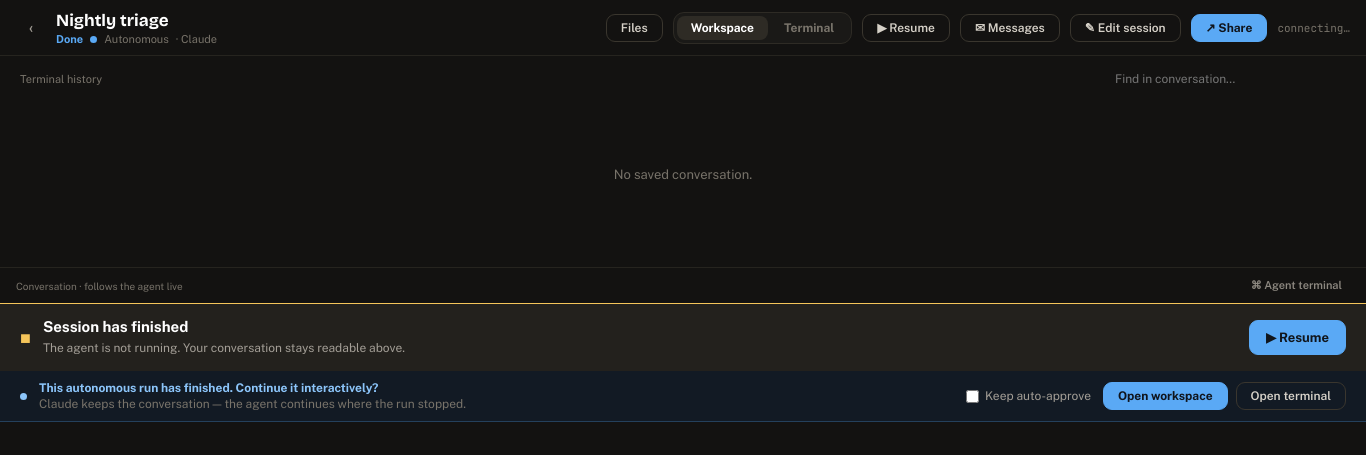
it: continuing an autonomous session interactively › shows a refusal inline instead of a popup and stays on the card
Click the button "Open terminal": click(1291, 396) top-left (1236, 382), bottom-right (1346, 410)
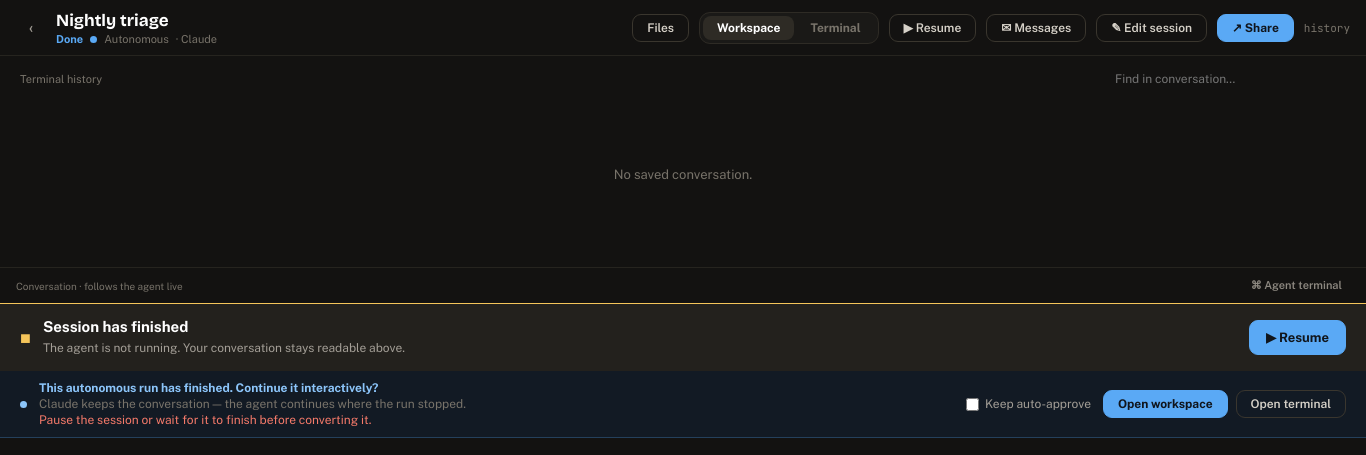
Result: the text "Pause the session or wait for it to finish before converting it." is shown at top-left (39, 413), bottom-right (371, 427)
